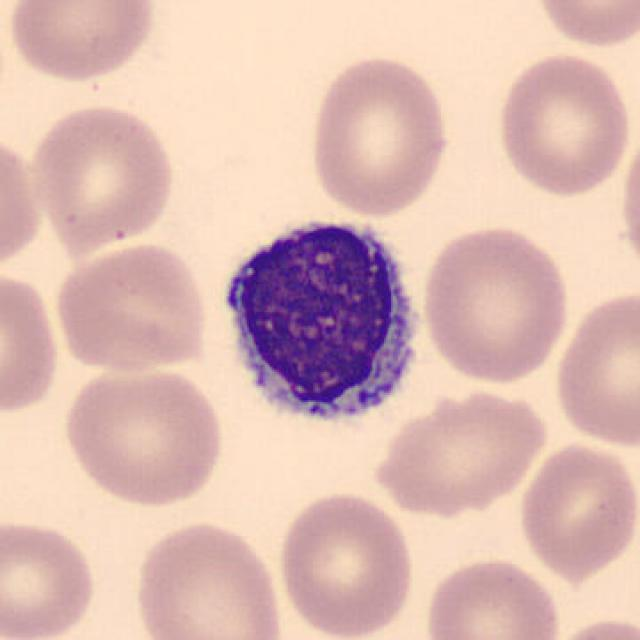Lymphocyte: (208, 205, 434, 442)
RBC: (57, 360, 227, 510), (418, 221, 572, 386), (304, 51, 453, 219), (368, 384, 551, 518), (25, 99, 179, 257), (50, 238, 213, 376), (274, 488, 418, 640), (492, 48, 634, 199), (130, 516, 288, 640), (514, 437, 638, 582), (551, 284, 638, 451), (4, 0, 160, 85), (419, 553, 565, 640), (0, 515, 100, 640), (0, 266, 64, 420), (0, 127, 44, 278), (528, 0, 638, 51), (615, 115, 640, 282), (544, 613, 638, 640)
